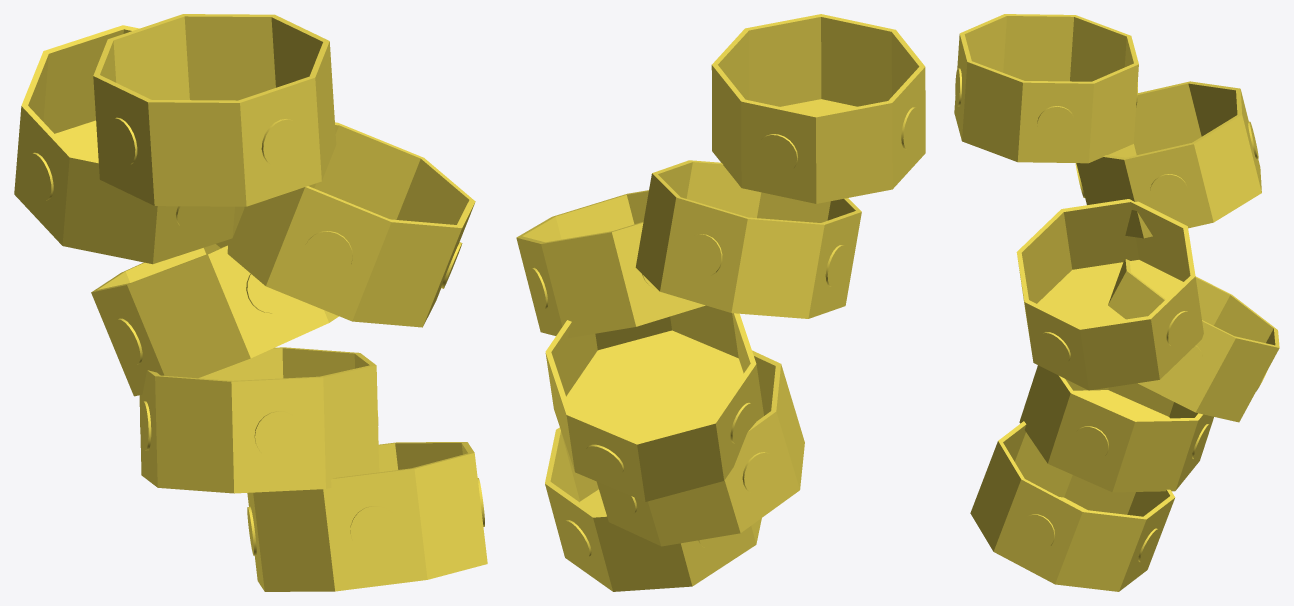
File: ELE-CXA-003_anim.glb
3 views of the same model, side by side, from view 1: azimuth 30°, elevation 25°; view 2: azimuth 150°, elevation 25°; view 3: azimuth 270°, elevation 25° (orthographic). The views are drawn at different scales.
Visible parts, largest first — view 1: ELE-CXA-003_anim5, ELE-CXA-003_anim3, ELE-CXA-003_anim1, ELE-CXA-003_anim0, ELE-CXA-003_anim4, ELE-CXA-003_anim2; view 2: ELE-CXA-003_anim5, ELE-CXA-003_anim2, ELE-CXA-003_anim4, ELE-CXA-003_anim3, ELE-CXA-003_anim1, ELE-CXA-003_anim0; view 3: ELE-CXA-003_anim3, ELE-CXA-003_anim5, ELE-CXA-003_anim0, ELE-CXA-003_anim4, ELE-CXA-003_anim1, ELE-CXA-003_anim2.
Part boxes in pixels (x1=…): ELE-CXA-003_anim5: x1=93, y1=14, x2=336, y2=206; ELE-CXA-003_anim3: x1=216, y1=122, x2=475, y2=327; ELE-CXA-003_anim1: x1=139, y1=347, x2=379, y2=493; ELE-CXA-003_anim0: x1=247, y1=442, x2=487, y2=591; ELE-CXA-003_anim4: x1=14, y1=25, x2=244, y2=264; ELE-CXA-003_anim2: x1=91, y1=244, x2=338, y2=396; ELE-CXA-003_anim5: x1=711, y1=14, x2=925, y2=203; ELE-CXA-003_anim2: x1=545, y1=305, x2=763, y2=501; ELE-CXA-003_anim4: x1=635, y1=160, x2=861, y2=318; ELE-CXA-003_anim3: x1=516, y1=190, x2=705, y2=337; ELE-CXA-003_anim1: x1=597, y1=350, x2=804, y2=546; ELE-CXA-003_anim0: x1=545, y1=427, x2=761, y2=591; ELE-CXA-003_anim3: x1=1016, y1=199, x2=1203, y2=390; ELE-CXA-003_anim5: x1=954, y1=14, x2=1138, y2=163; ELE-CXA-003_anim0: x1=970, y1=421, x2=1175, y2=591; ELE-CXA-003_anim4: x1=1075, y1=81, x2=1261, y2=238; ELE-CXA-003_anim1: x1=1019, y1=365, x2=1213, y2=492; ELE-CXA-003_anim2: x1=1108, y1=259, x2=1279, y2=422.
Bounding box in the file's own units: 0.1972 × 0.2947 × 0.1876.
